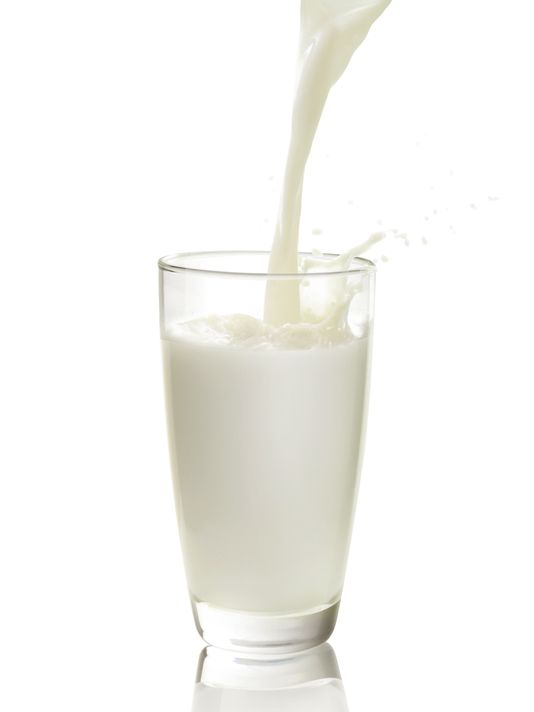glass of milk: (158, 255, 367, 652)
